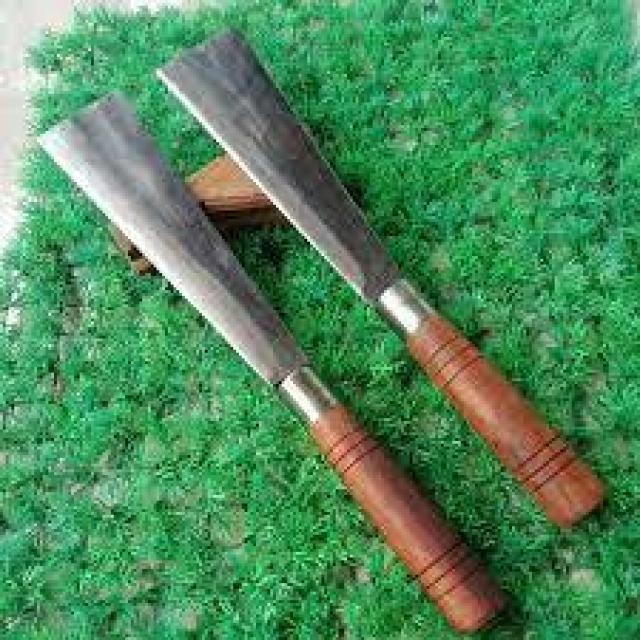eto: (142, 21, 612, 532)
